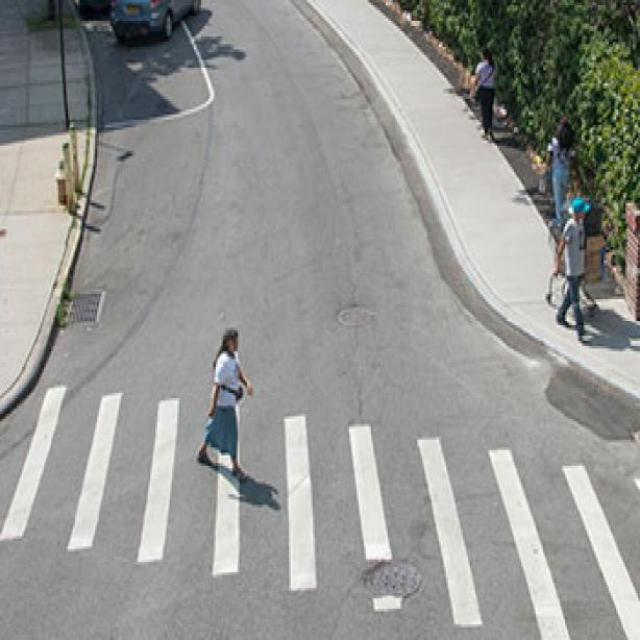pedestrian lane: (0, 386, 640, 638)
